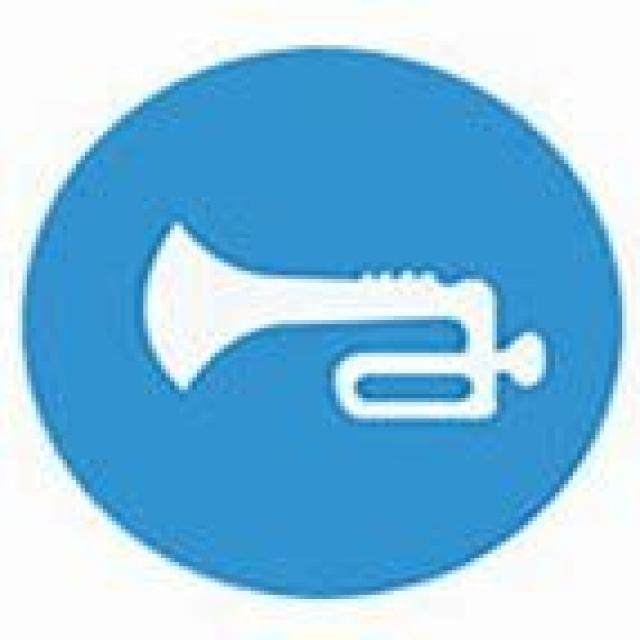COMPULSARY_SOUND_HORN: (22, 41, 618, 595)
